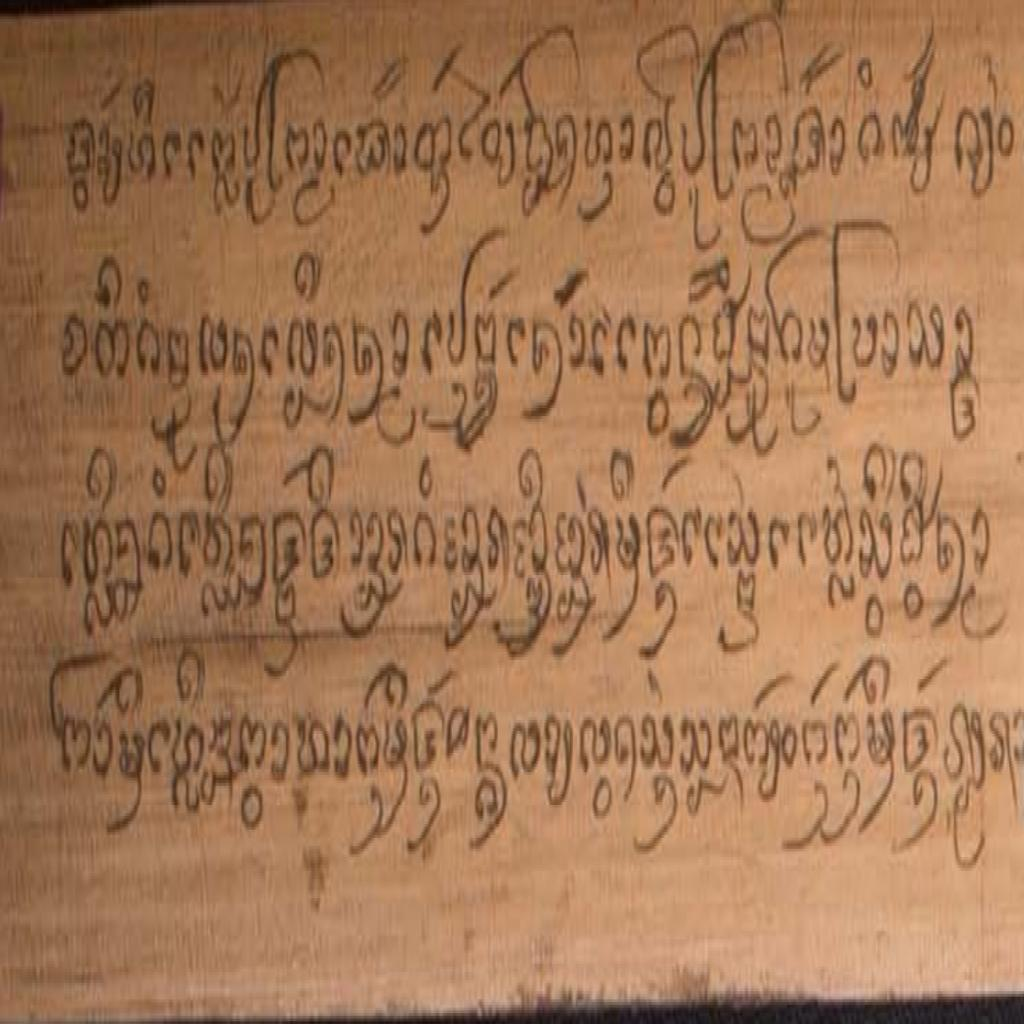LN038: (639, 708, 677, 776)
